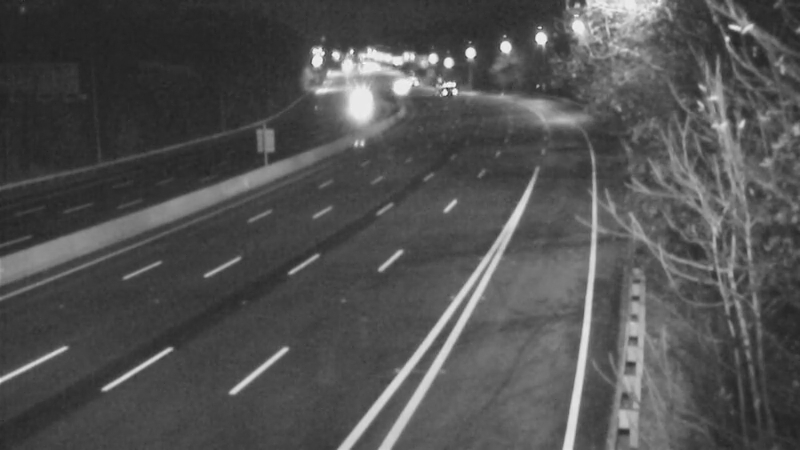vehicle: (372, 56, 422, 106), (415, 62, 465, 112), (374, 63, 424, 113), (331, 81, 381, 131)
